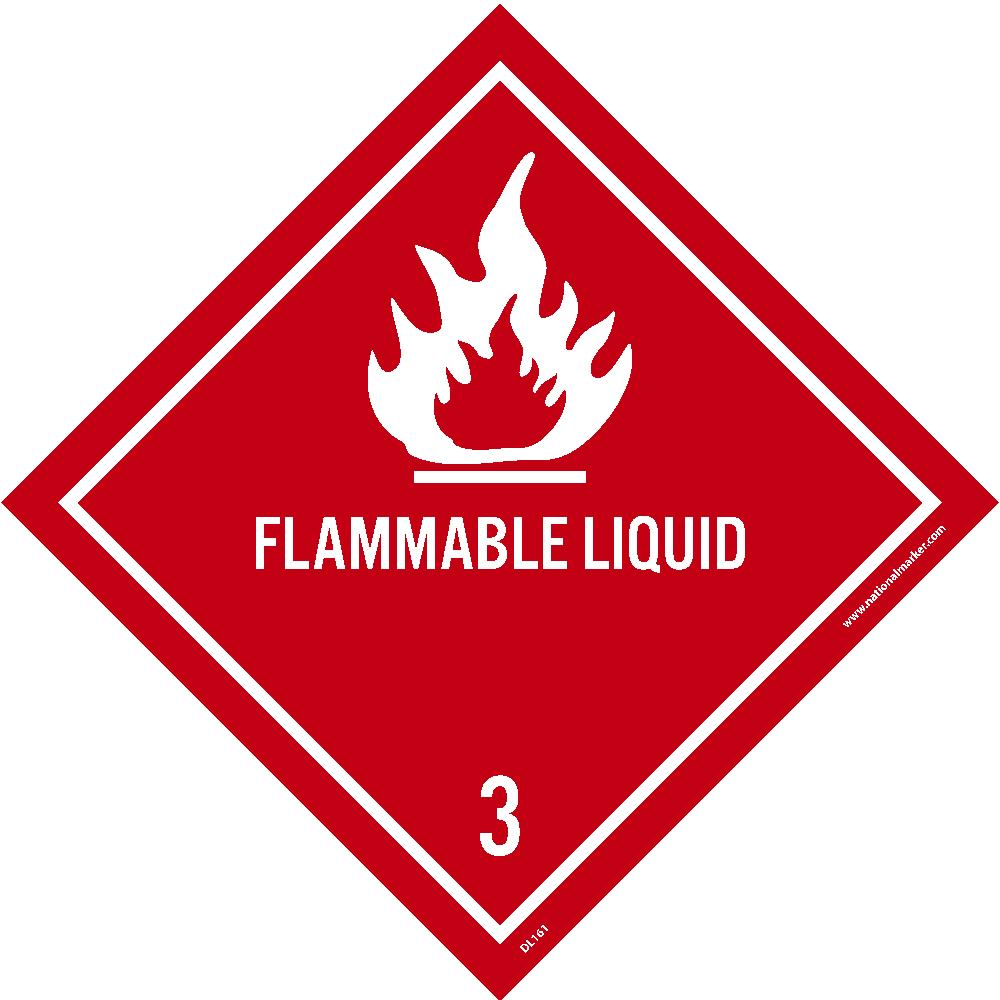FlammableLiquid: (52, 40, 963, 941)
